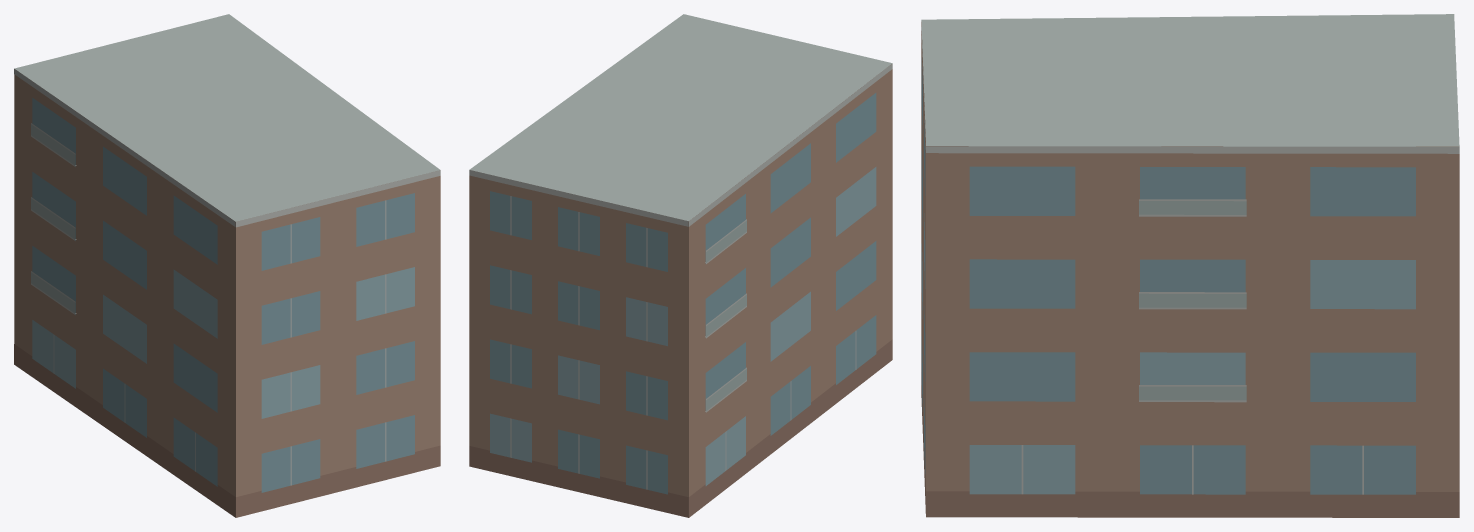
The model's file is survey-upis-32701329.glb.
3 renders of one model, left to right at view 1: azimuth 30°, elevation 25°; view 2: azimuth 150°, elevation 25°; view 3: azimuth 270°, elevation 25°, orthographic. The views are drawn at different scales.
Visible parts, largest first — view 1: survey-upis-32701329.tmp; view 2: survey-upis-32701329.tmp; view 3: survey-upis-32701329.tmp.
Boxes of the visible parts, x1=… form: survey-upis-32701329.tmp: x1=14, y1=14, x2=440, y2=517; survey-upis-32701329.tmp: x1=469, y1=14, x2=892, y2=517; survey-upis-32701329.tmp: x1=921, y1=14, x2=1459, y2=517.
Size of the model in its own units: 9.84 by 12.8 by 16.83.
